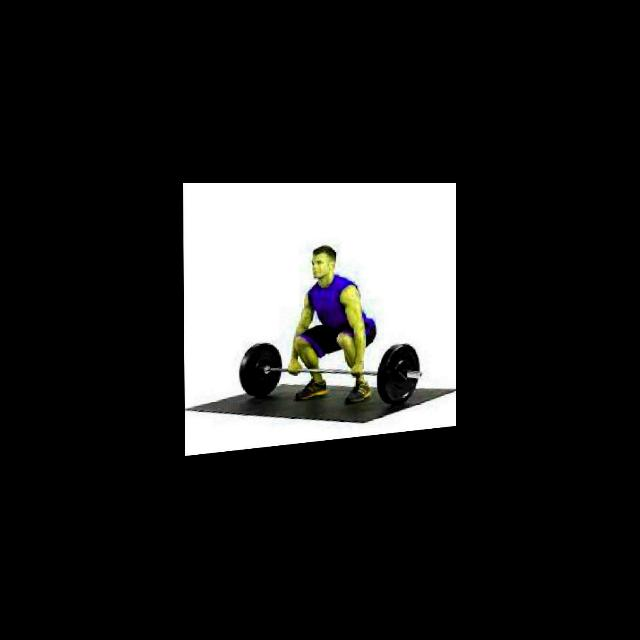barbell: (380, 345, 424, 413)
